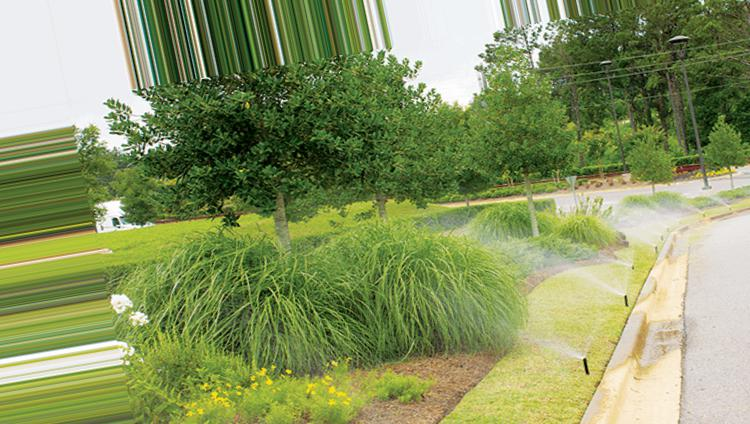patch: (373, 400, 441, 421), (427, 361, 473, 383)
